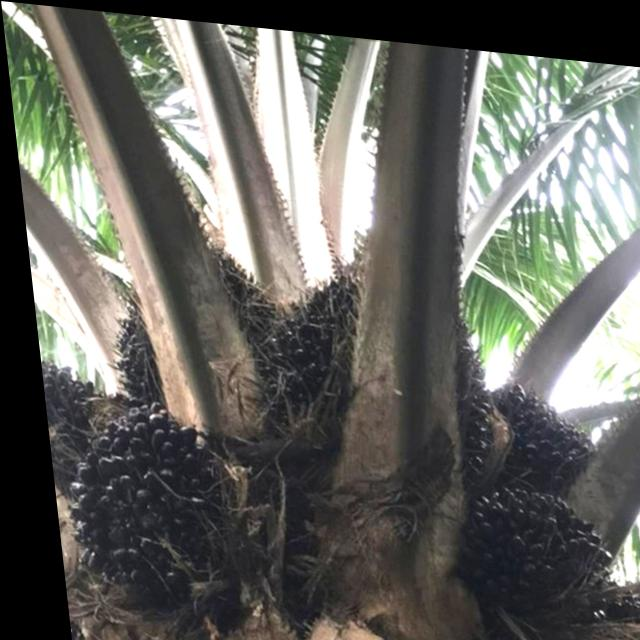almost: (243, 218, 499, 489)
